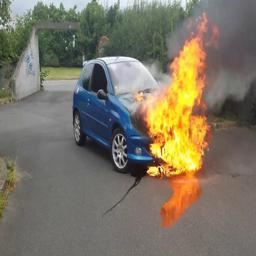fire: (136, 11, 218, 173)
